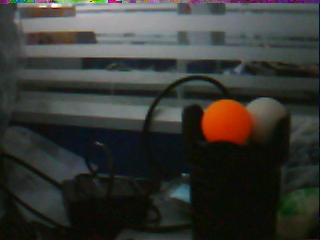oball: (201, 99, 252, 144)
